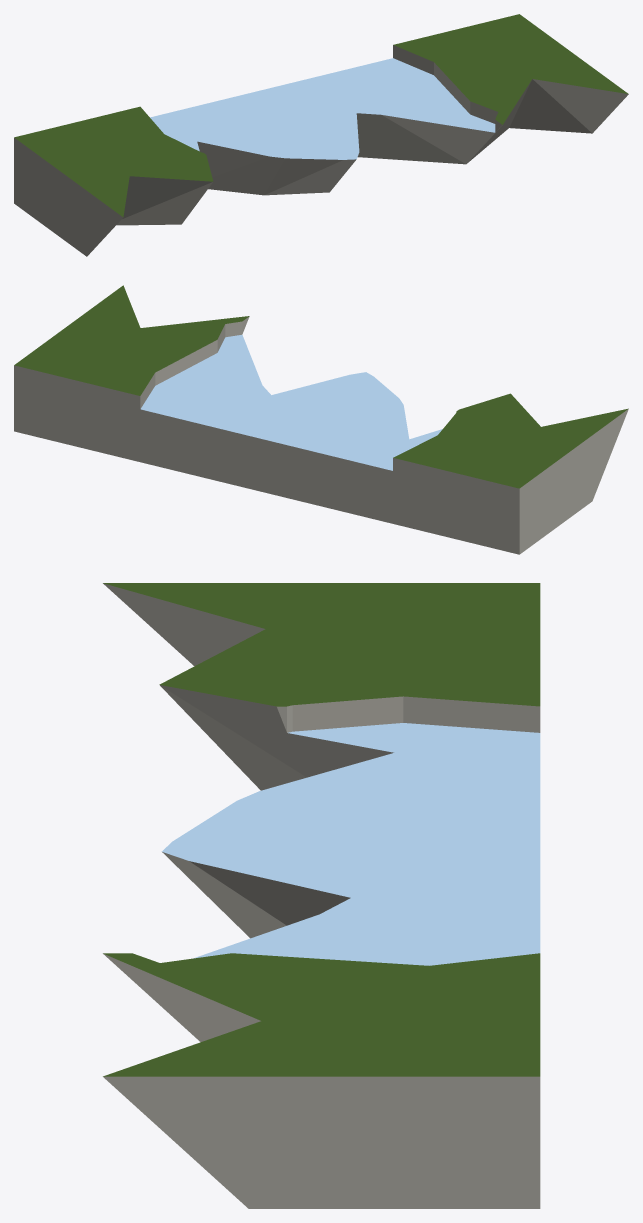
The model's file is Terrain_Tile_Grass_Rock_Ledge_River_01.fbx.
The picture shows the model from 3 angles, top to bottom: view 1: azimuth 30°, elevation 25°; view 2: azimuth 150°, elevation 25°; view 3: azimuth 270°, elevation 25°; orthographic projection. The views are drawn at different scales.
Parts seen in each view (by area): view 1: Terrain_Tile_Grass_Rock_Ledge_River_01; view 2: Terrain_Tile_Grass_Rock_Ledge_River_01; view 3: Terrain_Tile_Grass_Rock_Ledge_River_01.
Boxes of the visible parts, <box> form: Terrain_Tile_Grass_Rock_Ledge_River_01: <box>14,14,628,256</box>; Terrain_Tile_Grass_Rock_Ledge_River_01: <box>14,285,628,554</box>; Terrain_Tile_Grass_Rock_Ledge_River_01: <box>103,583,540,1208</box>.
Bounding box in the file's own units: 126 × 15.75 × 47.24.
